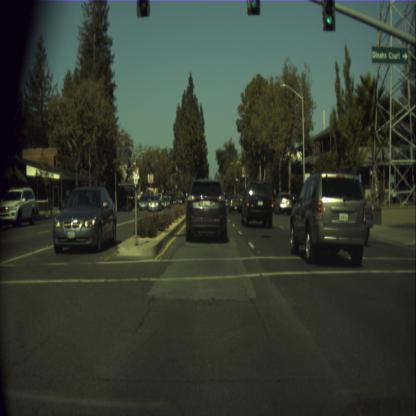Green: (324, 0, 334, 31), (247, 0, 260, 15)
off: (137, 0, 150, 15)
